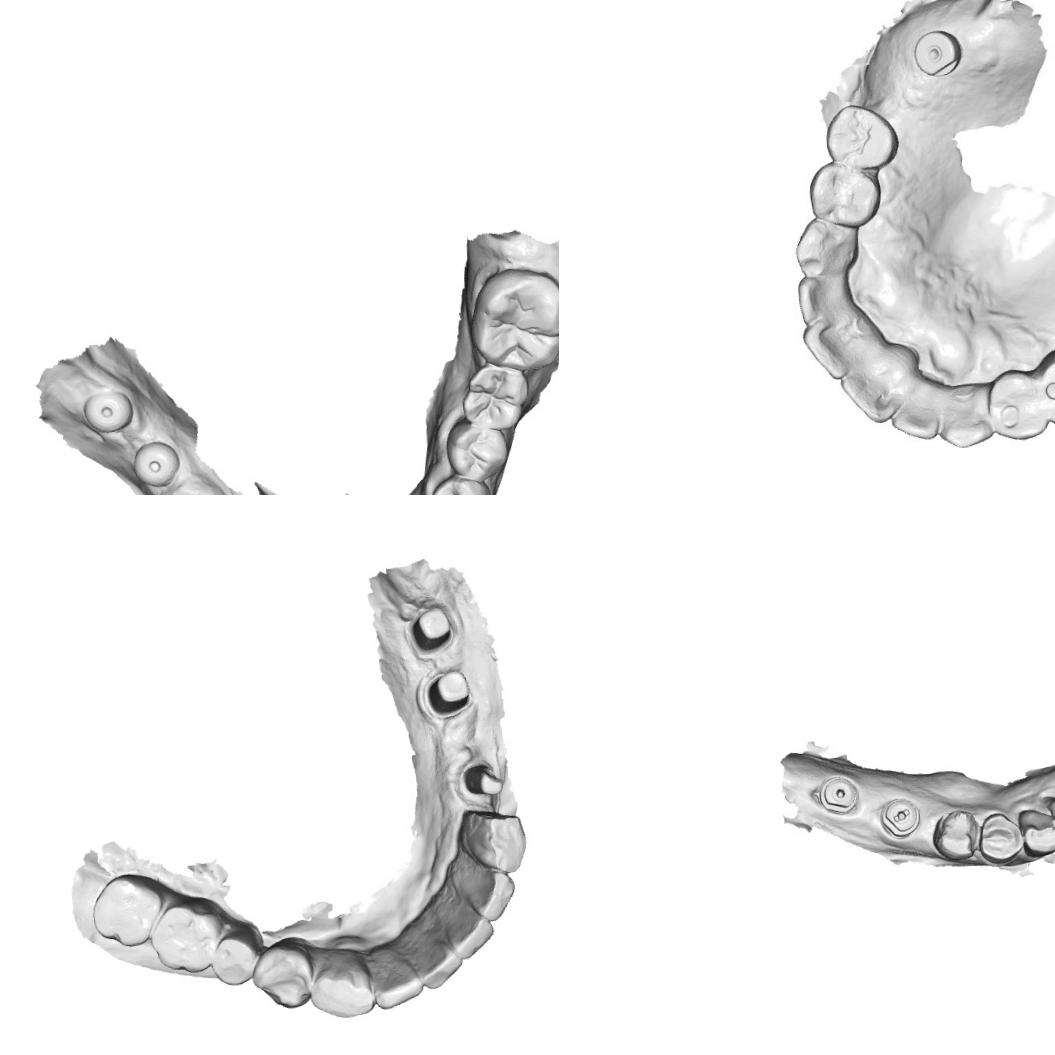abutment: (424, 665, 474, 719), (409, 600, 455, 652), (462, 757, 506, 800)
canine: (305, 945, 378, 1021), (456, 805, 529, 876), (941, 376, 988, 450), (794, 221, 860, 269), (1017, 805, 1055, 858)
implant: (912, 25, 962, 80), (131, 437, 181, 489), (81, 386, 134, 435), (816, 771, 862, 816)
implant_minus: (876, 793, 921, 842)
incisor: (840, 350, 908, 420), (805, 314, 872, 378), (890, 384, 948, 444), (460, 863, 517, 924), (372, 950, 426, 1012), (410, 936, 466, 992), (443, 903, 495, 963), (798, 270, 852, 321)
molar: (469, 266, 559, 372), (86, 868, 164, 952), (148, 900, 224, 978), (458, 360, 532, 433)
premolar: (822, 98, 902, 170), (248, 936, 316, 1012), (805, 162, 878, 228), (984, 367, 1045, 442), (442, 418, 508, 480), (210, 929, 262, 988), (927, 807, 980, 863), (977, 808, 1023, 865), (429, 475, 490, 495), (1043, 343, 1055, 427)
